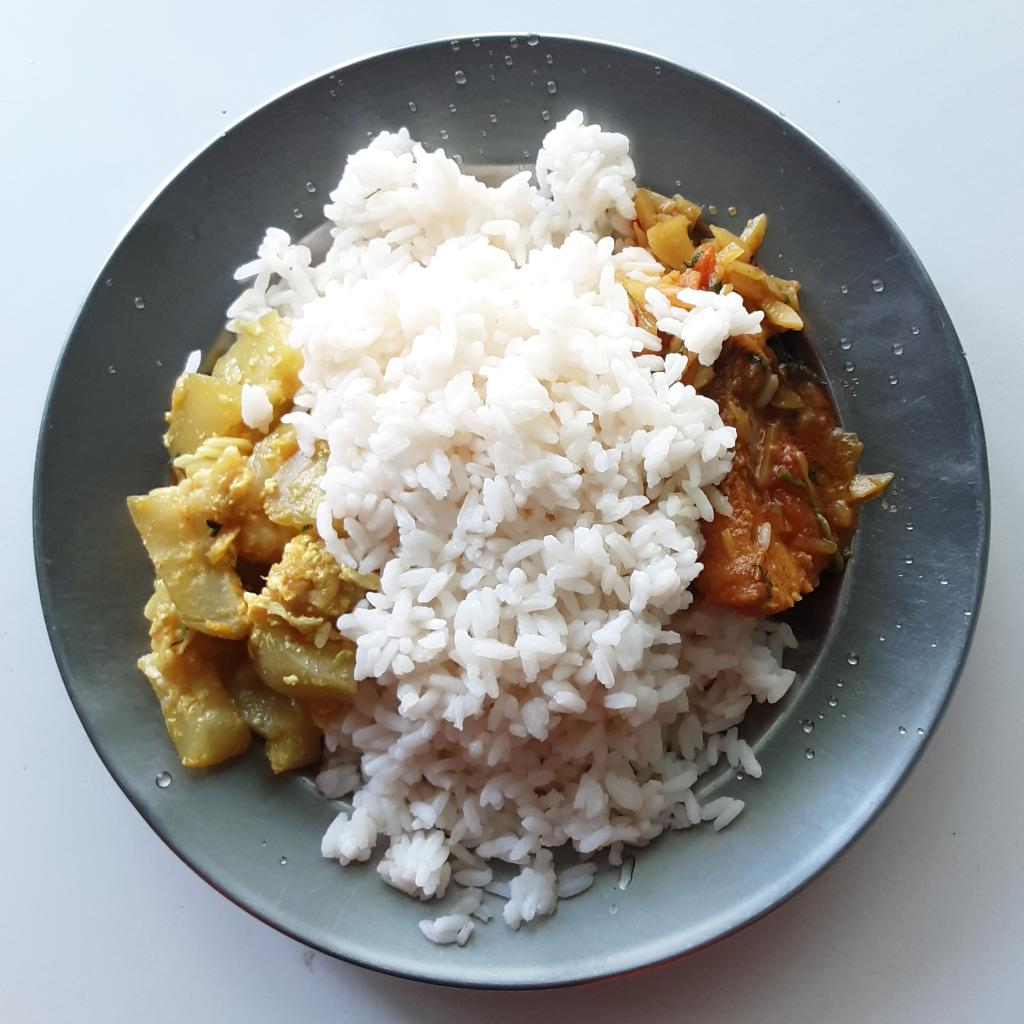fish: (693, 334, 858, 622)
lau: (128, 306, 372, 777)
potato: (639, 187, 811, 339)
rice: (225, 109, 798, 946)
